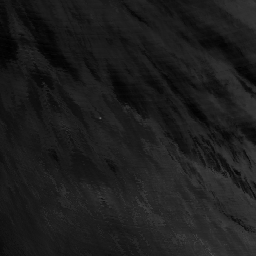Target: (97, 115, 102, 121)
